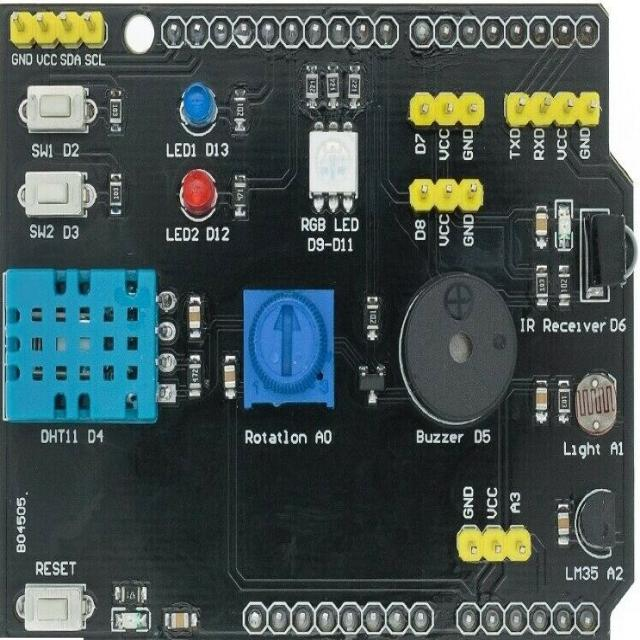2235: (24, 170, 88, 224), (21, 582, 86, 634), (23, 88, 91, 133)
4439: (579, 488, 618, 561), (361, 359, 387, 412)
IC: (0, 271, 173, 414)
LED: (305, 126, 358, 210), (593, 213, 640, 294), (178, 80, 216, 136), (174, 174, 218, 218), (556, 200, 572, 260), (112, 607, 147, 633)
buzzer: (406, 269, 512, 421)
capacitor 1V5: (554, 501, 574, 542), (185, 298, 204, 339), (220, 366, 234, 407), (536, 212, 549, 255), (537, 381, 550, 420), (172, 611, 193, 627)
connector -5v-: (1, 7, 113, 48), (506, 90, 604, 132), (412, 87, 488, 127), (457, 531, 528, 570), (410, 177, 482, 210)
potentiometer POT1: (238, 286, 335, 416)
resistor IR1: (107, 90, 122, 140), (112, 582, 154, 599), (346, 65, 362, 108), (326, 66, 340, 110), (302, 70, 320, 104), (368, 296, 381, 342), (233, 177, 248, 215), (556, 272, 573, 304), (233, 86, 245, 130), (535, 273, 549, 308), (108, 177, 123, 209), (556, 384, 571, 416), (189, 356, 201, 393)
